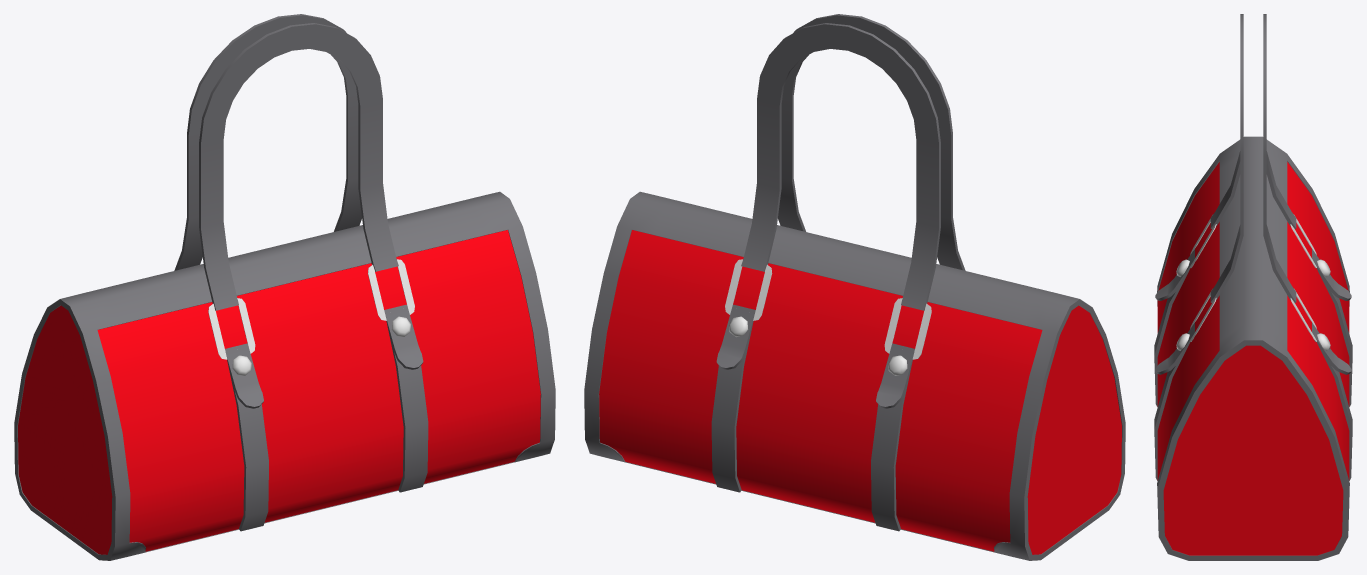
File: Bag.fbx
3 views of the same model, side by side, from view 1: azimuth 30°, elevation 25°; view 2: azimuth 150°, elevation 25°; view 3: azimuth 270°, elevation 25° (orthographic). The views are drawn at different scales.
Parts seen in each view (by area): view 1: Bag, Strip, Frame, Belt; view 2: Bag, Strip, Frame, Belt; view 3: Bag, Frame, Strip, Belt.
Boxes of the visible parts, x1=… form: Bag: x1=18, y1=230, x2=540, y2=554; Strip: x1=174, y1=14, x2=428, y2=531; Frame: x1=14, y1=191, x2=555, y2=560; Belt: x1=208, y1=259, x2=414, y2=359; Bag: x1=599, y1=230, x2=1121, y2=554; Strip: x1=711, y1=14, x2=965, y2=531; Frame: x1=584, y1=191, x2=1125, y2=560; Belt: x1=725, y1=259, x2=931, y2=359; Bag: x1=1157, y1=162, x2=1349, y2=555; Frame: x1=1157, y1=136, x2=1349, y2=560; Strip: x1=1154, y1=14, x2=1352, y2=480; Belt: x1=1190, y1=215, x2=1316, y2=341.
Size of the model in its own units: 156 by 156 by 64.11.
